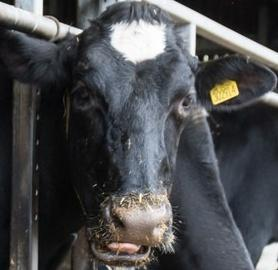muzzles: (89, 196, 175, 266)
